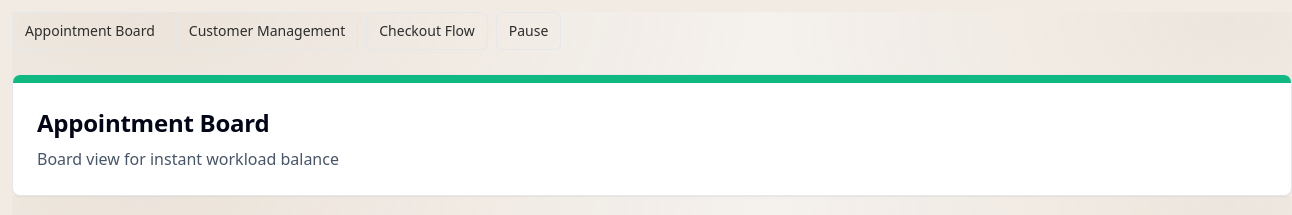
Test: Screenshots Integration › toggles autoplay state with pause button
Click the button "Pause".
click(528, 31)  # box [496,12,561,50]
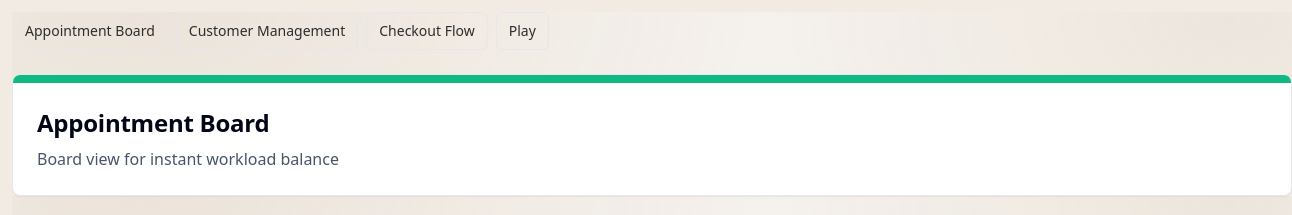
Result: the button "Play" is shown at [496,12,549,50]
